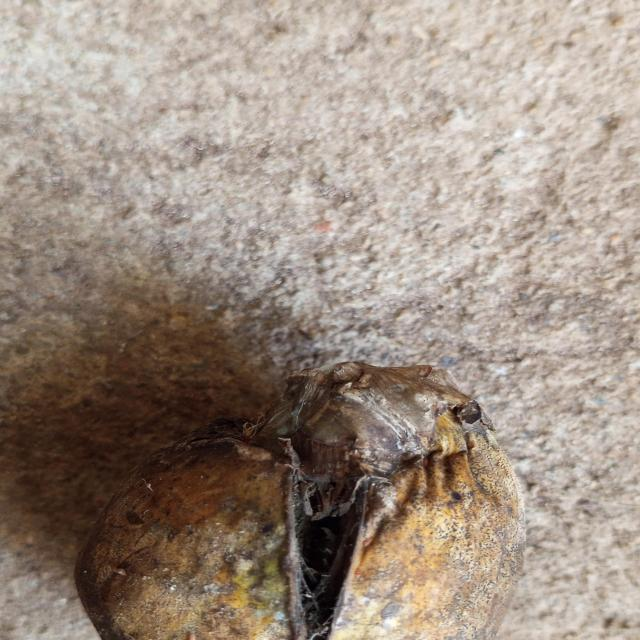damaged: (76, 362, 525, 640)
